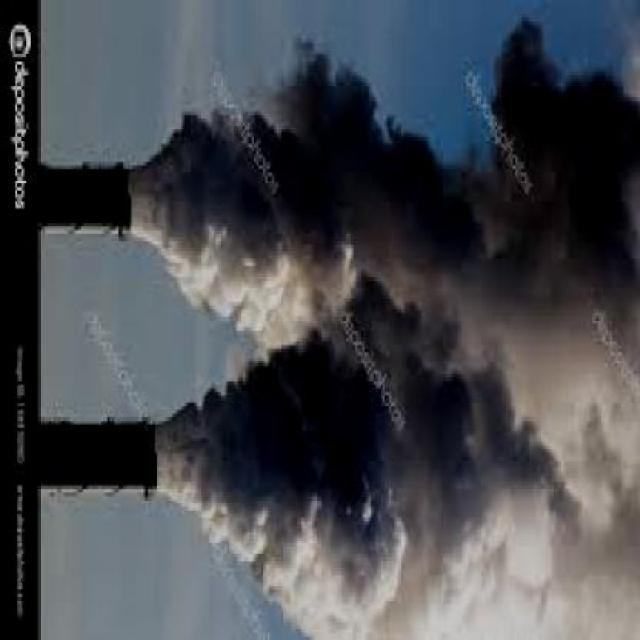Smoke: (126, 14, 639, 640)
